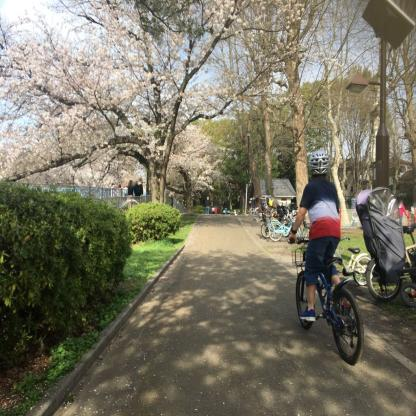Someiyoshino: (0, 0, 245, 222), (182, 3, 353, 119)
